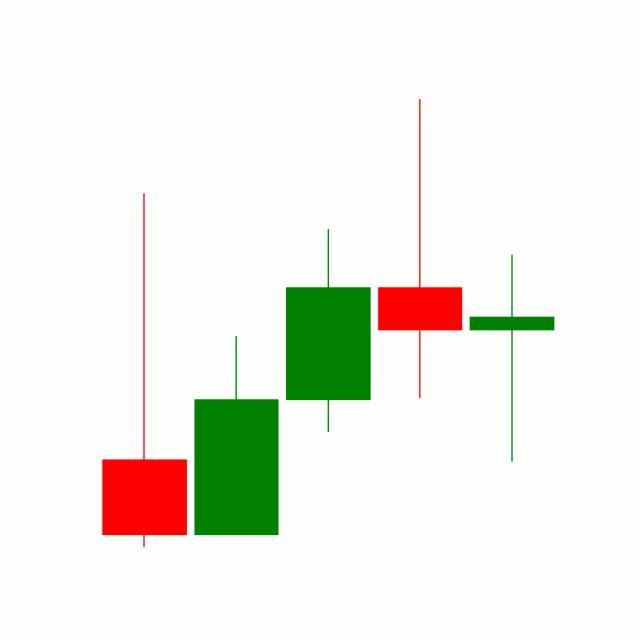Gravestone Doji: (374, 97, 468, 403)
